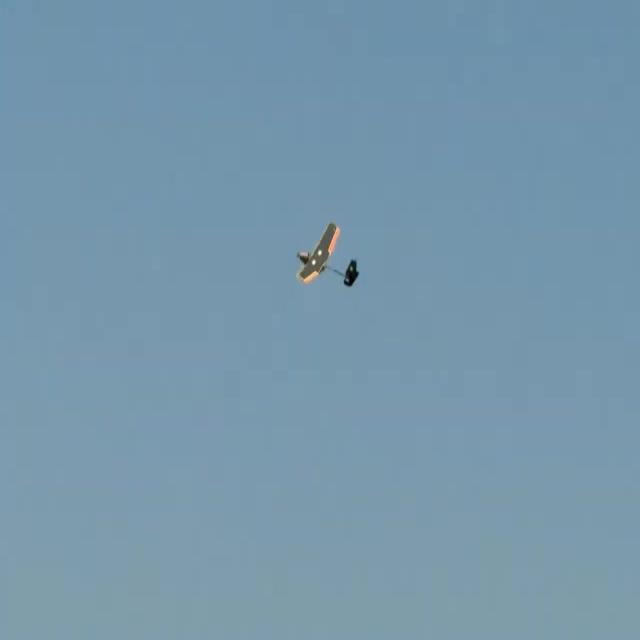iha: (317, 253, 323, 258)
